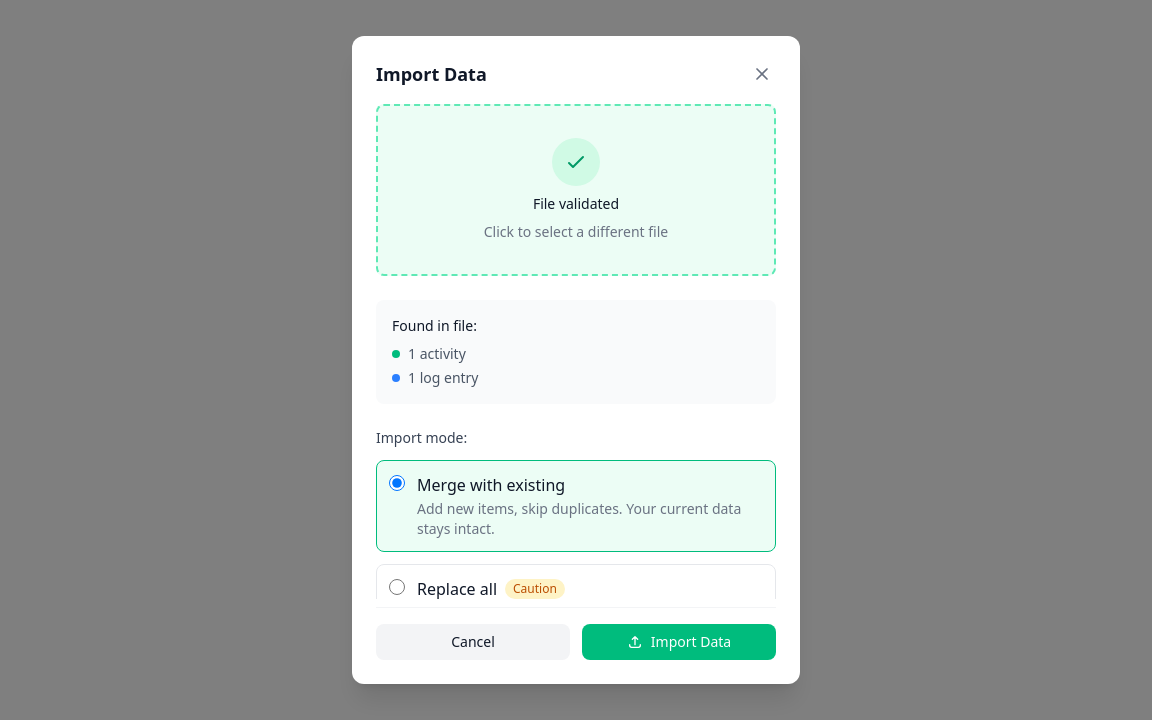
it: the counts it speaks of › says one of each when asking to merge
The image size is (1152, 720).
Earlier steps of the test are not shown.
Click the button "Import Data": {"x": 679, "y": 642} [582,624,776,660]
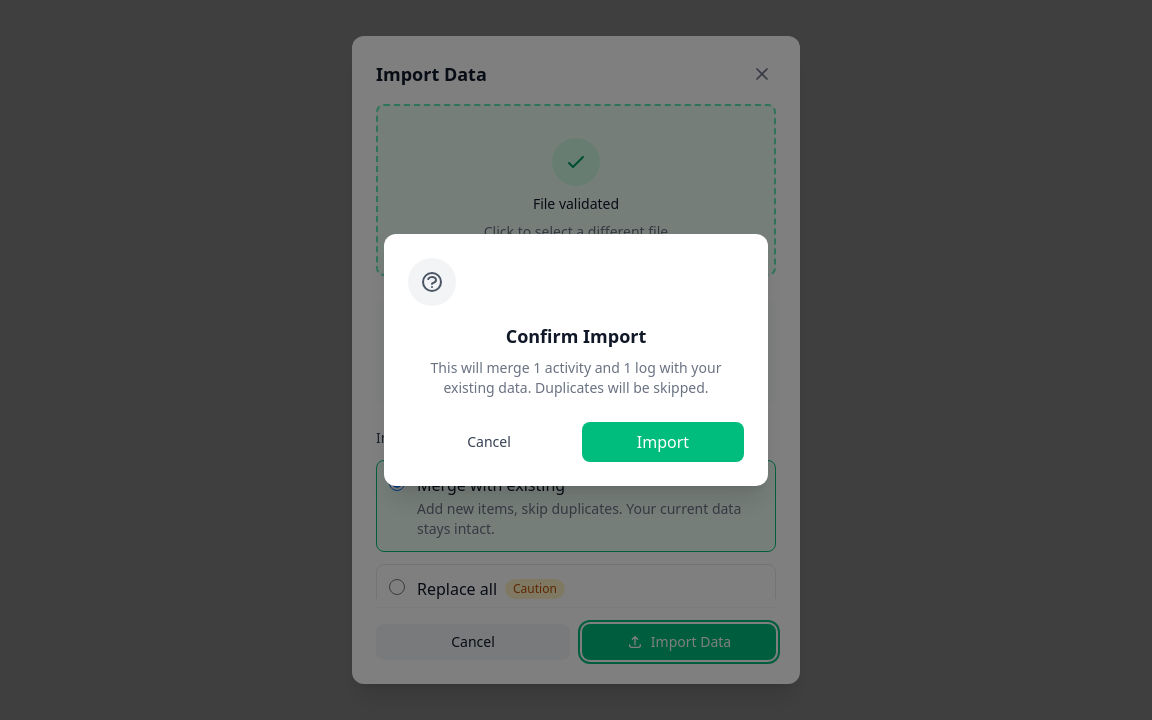
Check: the text "This will merge 1 activity and 1 log with your existing data. Duplicates will be skipped." is shown, box [431,358,721,397]
